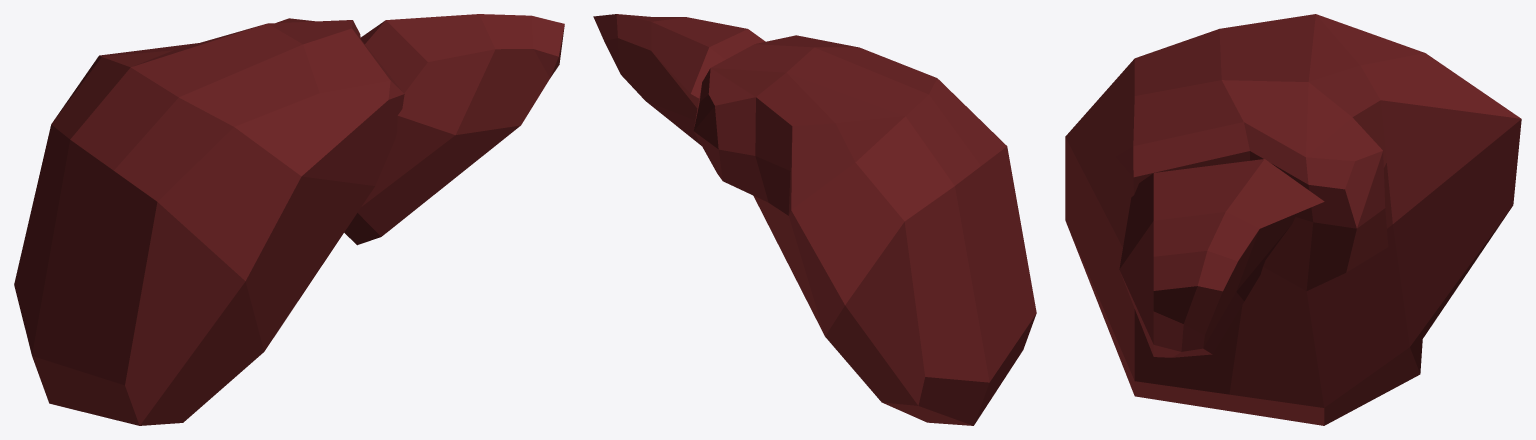
File: Liver.fbx
3 views of the same model, side by side, from view 1: azimuth 30°, elevation 25°; view 2: azimuth 150°, elevation 25°; view 3: azimuth 270°, elevation 25° (orthographic). The views are drawn at different scales.
Parts seen in each view (by area): view 1: Cube.001, Cube; view 2: Cube.001, Cube; view 3: Cube.001, Cube.
Part boxes in pixels (box(x1,y1,x2,y2)): Cube.001: box(14, 18, 404, 425); Cube: box(344, 14, 564, 245); Cube.001: box(693, 35, 1036, 425); Cube: box(593, 14, 765, 145); Cube.001: box(1065, 14, 1521, 425); Cube: box(1119, 159, 1324, 357).
Size of the model in its own units: 285 by 193 by 178.
